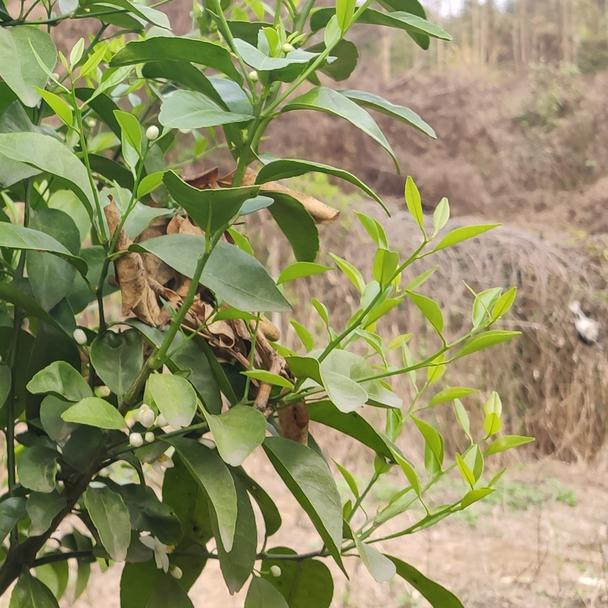shoot: (341, 189, 491, 330), (363, 291, 519, 387), (402, 404, 527, 521), (30, 39, 139, 154)
